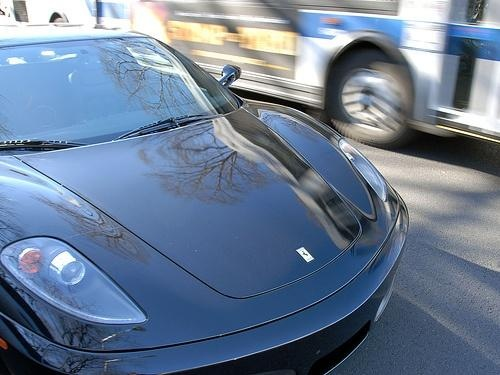bus: (1, 1, 500, 150)
car: (1, 29, 412, 375)
